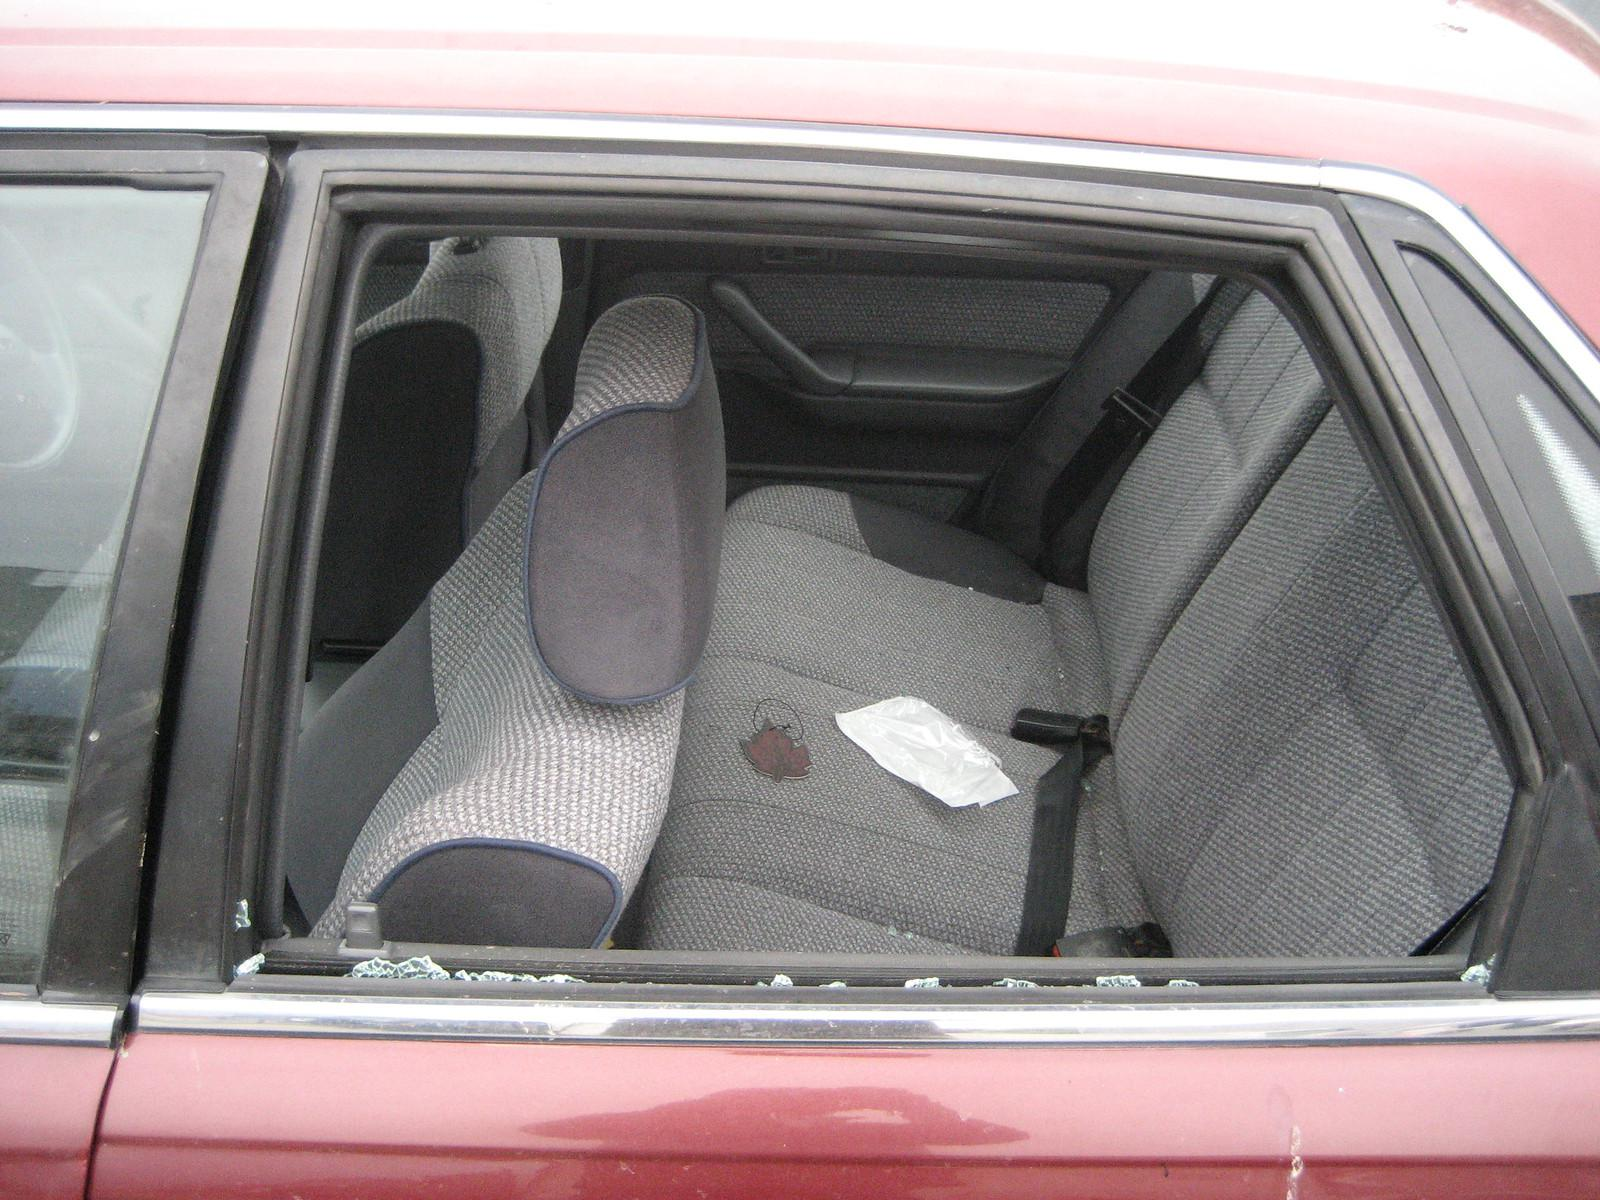doorouter-dent: (281, 73, 1543, 1168)
